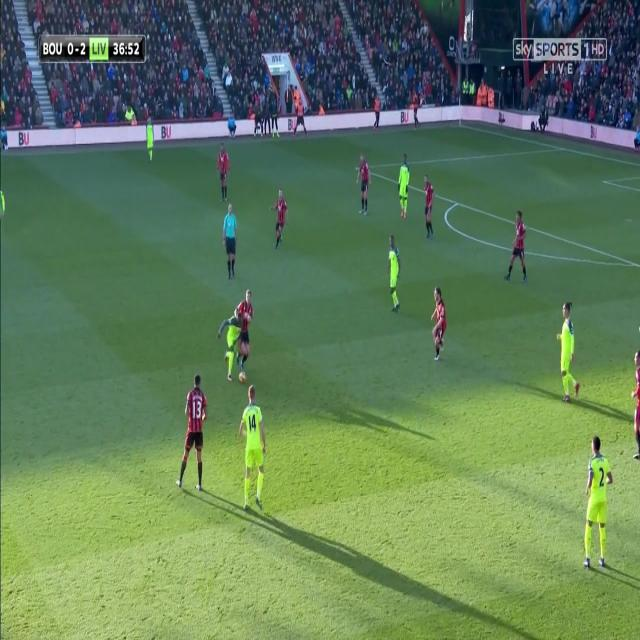Ball: (237, 369, 248, 385)
Player: (582, 433, 615, 573), (173, 373, 208, 492), (240, 385, 268, 513), (556, 298, 580, 407), (503, 209, 528, 291), (236, 288, 256, 368), (267, 186, 290, 253), (386, 234, 404, 317), (430, 284, 448, 367), (353, 151, 373, 218), (223, 313, 242, 381), (397, 153, 412, 224), (631, 346, 640, 463), (422, 172, 436, 242), (216, 142, 229, 203), (144, 116, 156, 164)
Referee: (222, 203, 240, 282)
